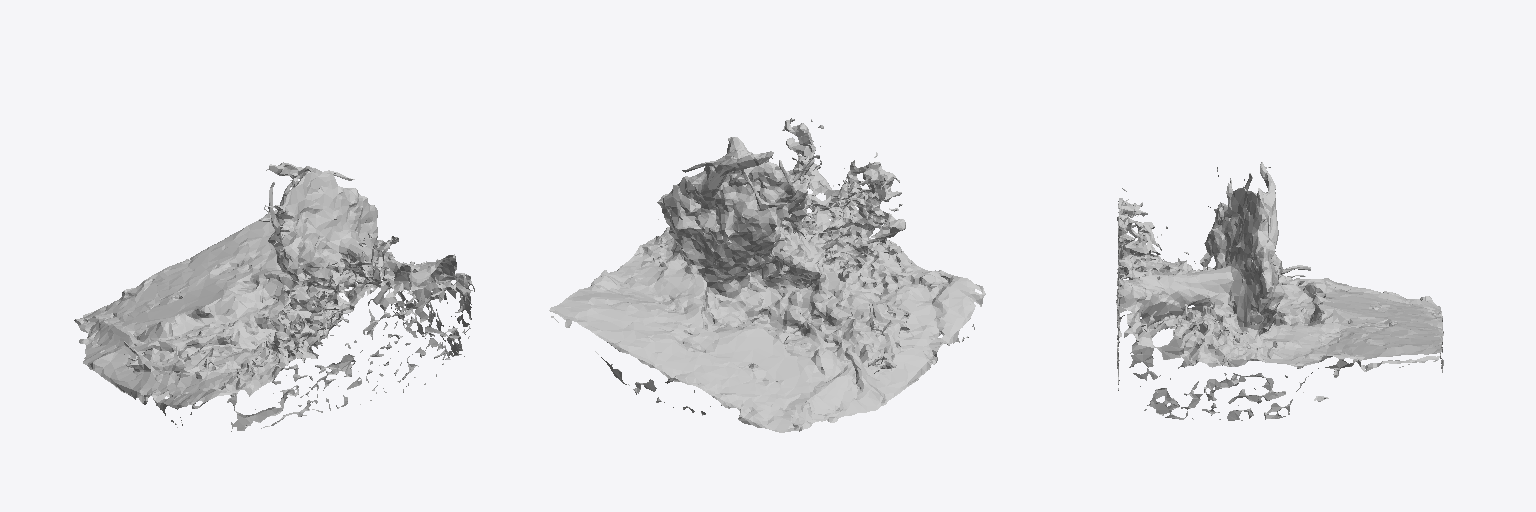
File: arbol.obj
3 renders of one model, left to right at view 1: azimuth 30°, elevation 25°; view 2: azimuth 150°, elevation 25°; view 3: azimuth 270°, elevation 25°, orthographic.
Bounding box in the file's own units: 4.05 × 2.64 × 4.05.